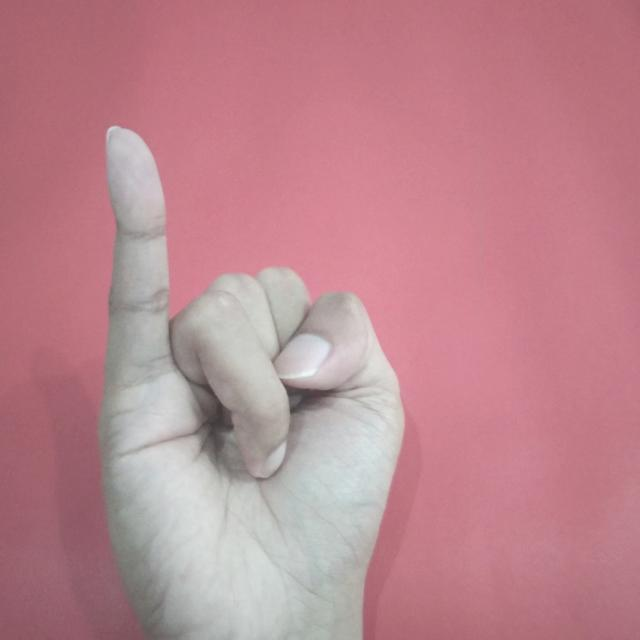I: (91, 118, 417, 640)
